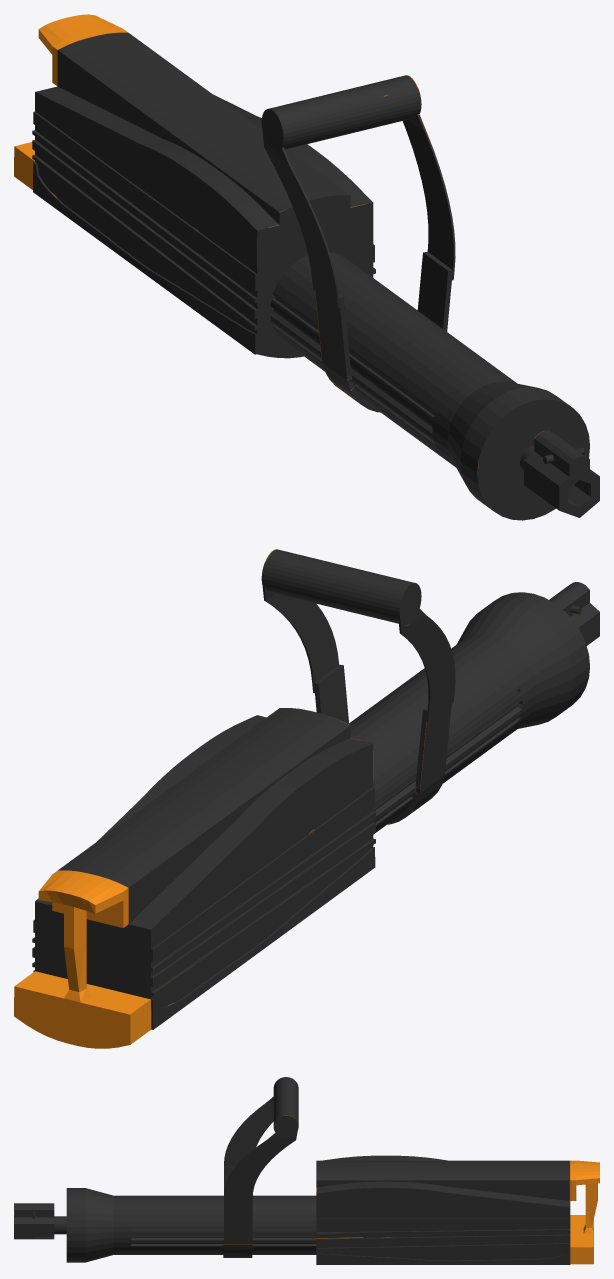
Rendered from drill_empty.obj.
3 views of the same model, one above another, from view 1: azimuth 30°, elevation 25°; view 2: azimuth 150°, elevation 25°; view 3: azimuth 270°, elevation 25° (orthographic). The views are drawn at different scales.
Visible parts, largest first — view 1: Cube; view 2: Cube; view 3: Cube.
Boxes of the visible parts, left/top/right/bottom form: Cube: left=14, top=14, right=599, bottom=520; Cube: left=14, top=549, right=599, bottom=1048; Cube: left=14, top=1077, right=599, bottom=1264.
Size of the model in its own units: 0.7646 by 1.51 by 4.92.
